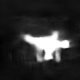plane: (19, 29, 74, 63)
